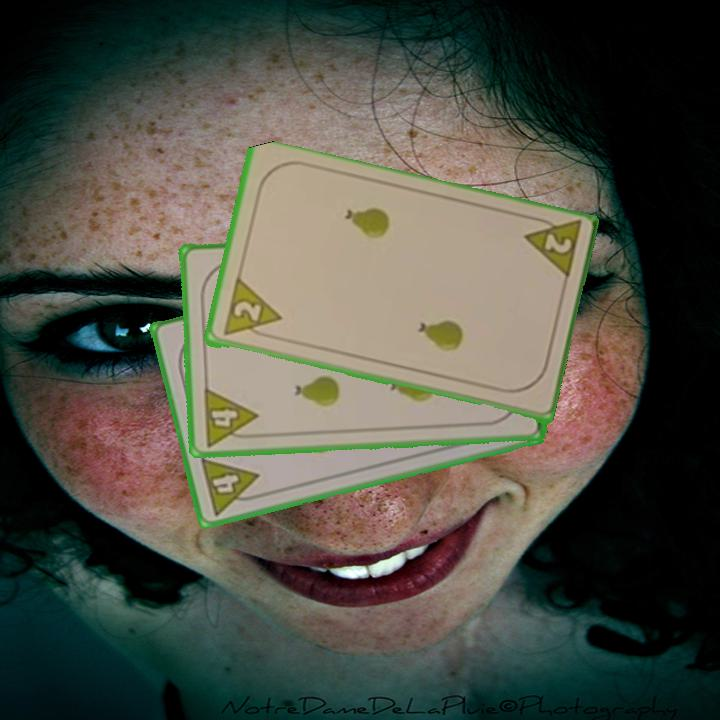2p: (519, 212, 584, 285), (219, 277, 284, 341)
4p: (197, 454, 266, 518), (199, 384, 261, 449)
